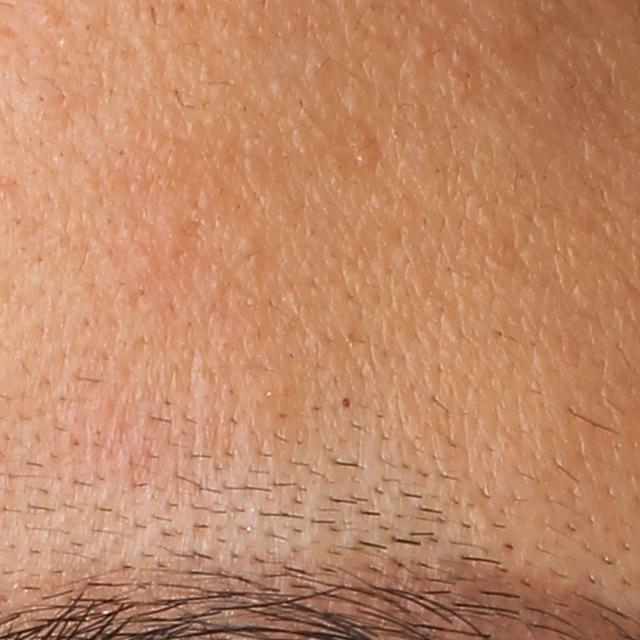comedo: (237, 235, 265, 258), (410, 38, 430, 62), (352, 146, 371, 170), (337, 392, 356, 413)
